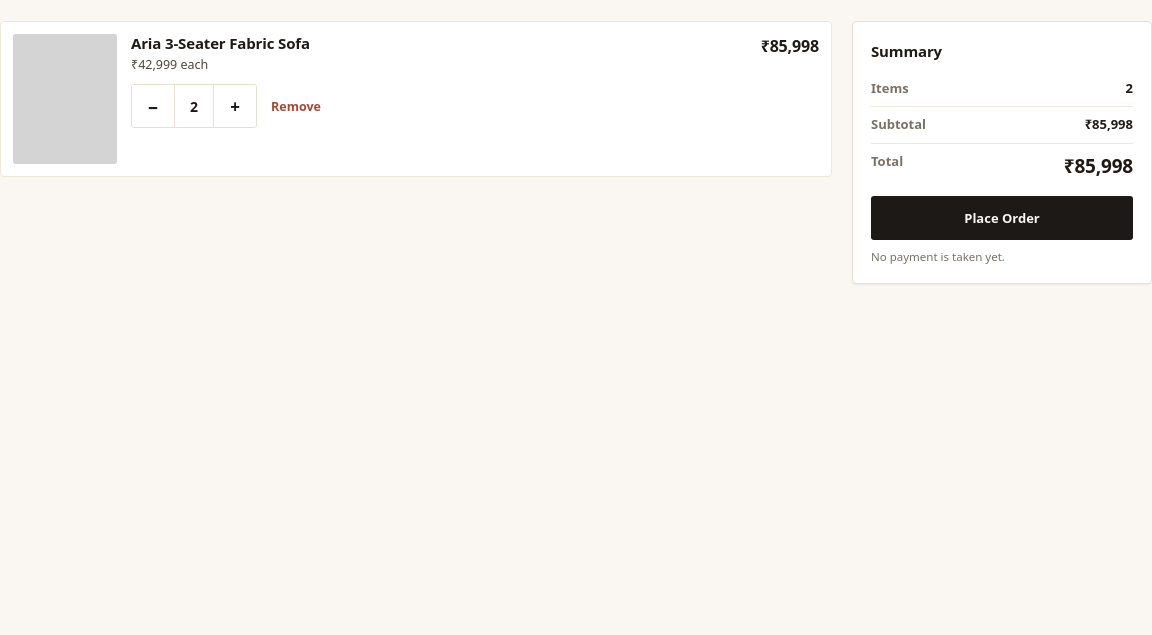
Test case: CartComponent (backend cart) › Back to cart returns to the lines and keeps what was typed
Click the button with class "btn-block": x=1002, y=218 x1=871 y1=196 x2=1133 y2=240
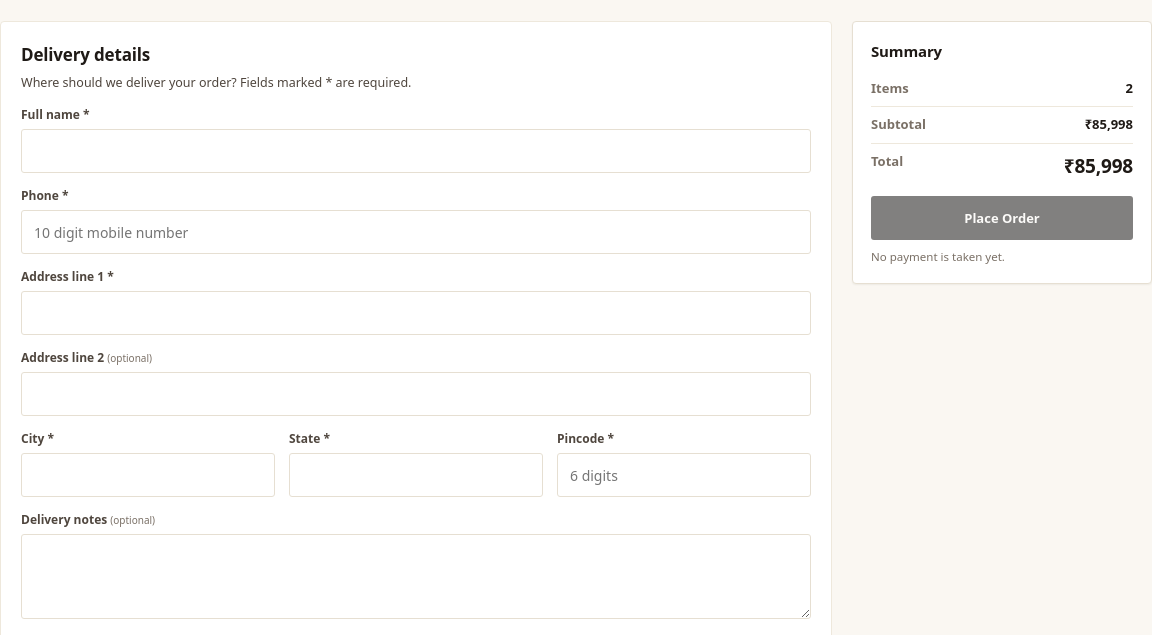
In the field named "fullName": x=416, y=151 x1=21 y1=129 x2=811 y2=173, type "Asha Menon"
(page scrolled)
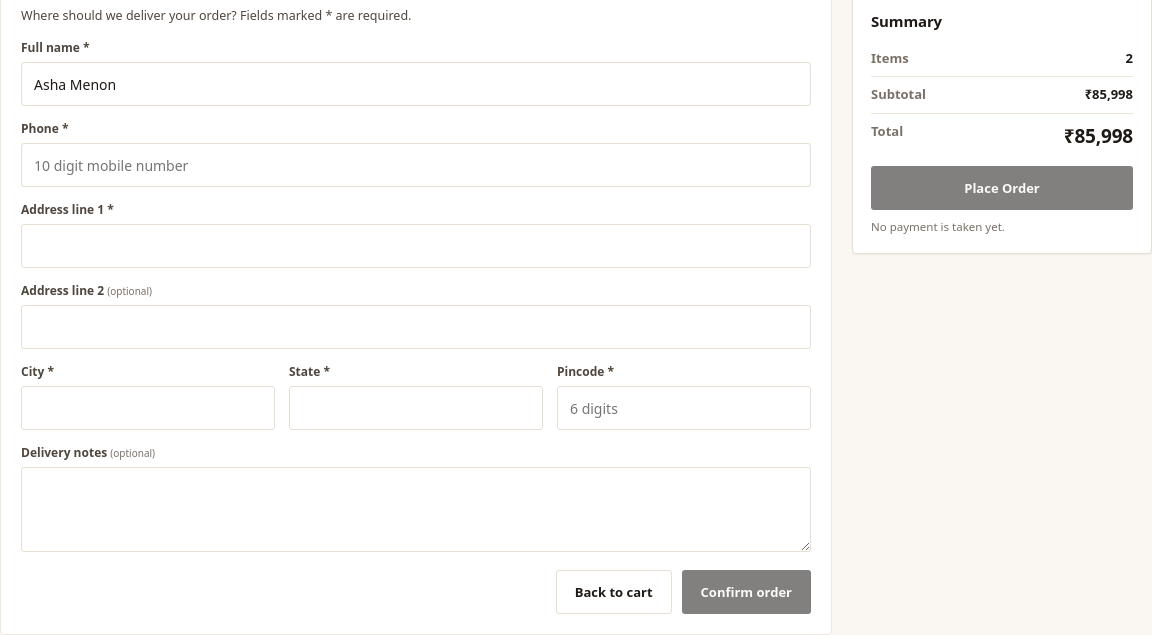
Click the button "Back to cart": x=614, y=592 x1=556 y1=570 x2=672 y2=614
(page scrolled)
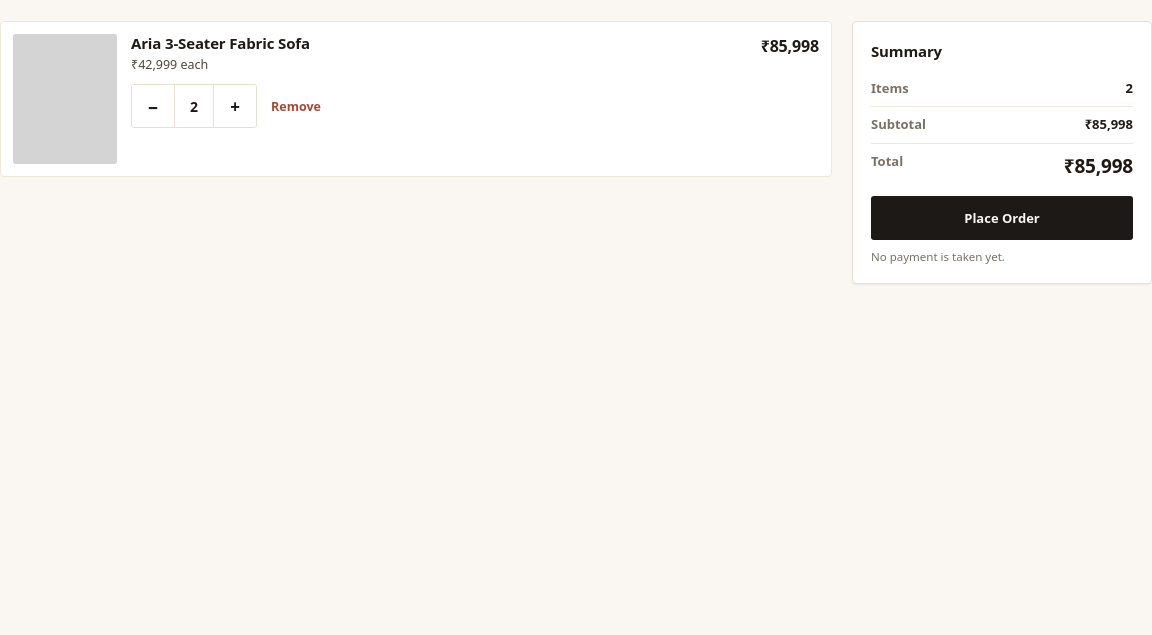
Result: the element with class "line" is shown at x1=0 y1=21 x2=832 y2=177
Click the button with class "btn-block": x=1002, y=218 x1=871 y1=196 x2=1133 y2=240
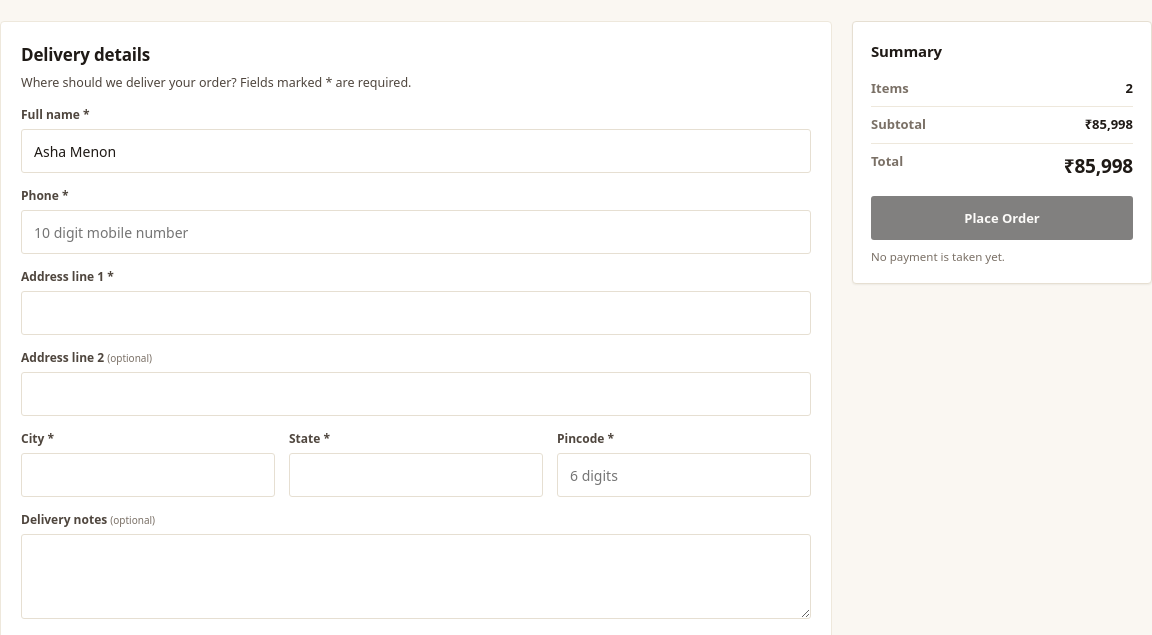
Result: the field named "fullName" holds "Asha Menon" at x1=21 y1=129 x2=811 y2=173
